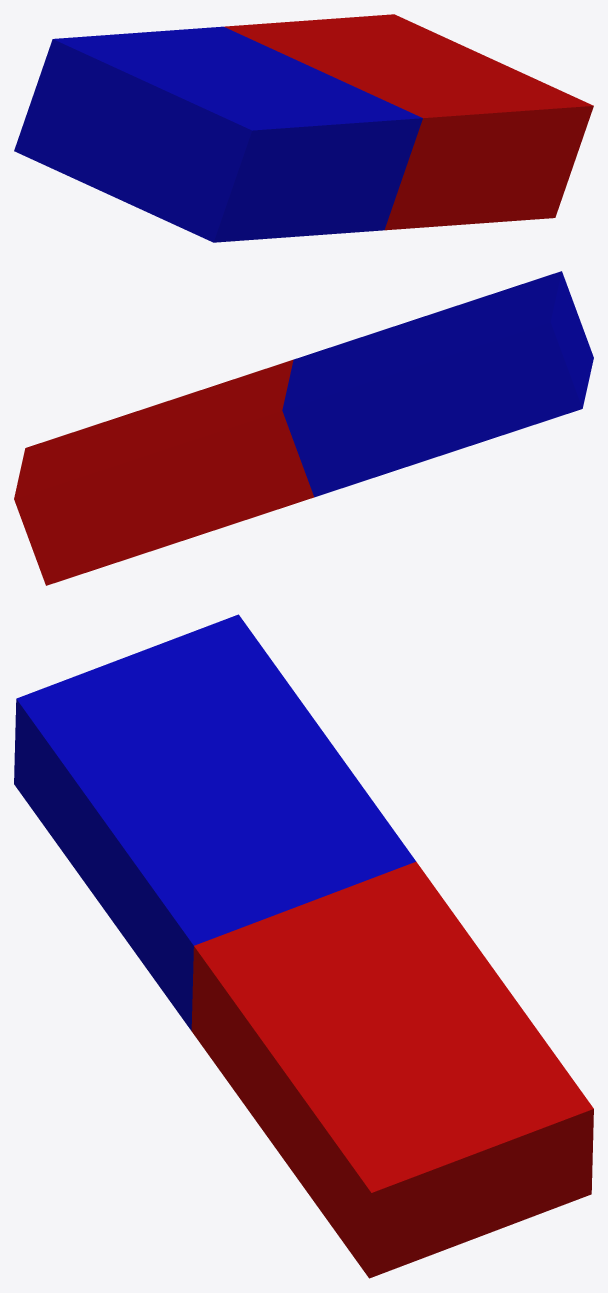
The model's file is glb.glb.
The picture shows the model from 3 angles, top to bottom: view 1: azimuth 30°, elevation 25°; view 2: azimuth 150°, elevation 25°; view 3: azimuth 270°, elevation 25°; orthographic projection. The views are drawn at different scales.
Parts seen in each view (by area): view 1: Box001; view 2: Box001; view 3: Box001.
Boxes of the visible parts, x1,y1,x2,y2 form: Box001: (14,14,593,242); Box001: (14,271,593,585); Box001: (14,614,593,1278).
Size of the model in its own units: 61.43 by 33.04 by 46.02.
